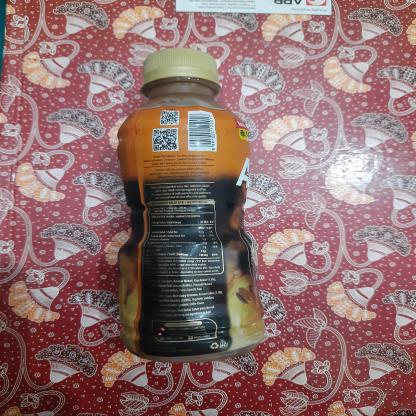bottle: (110, 45, 272, 365)
